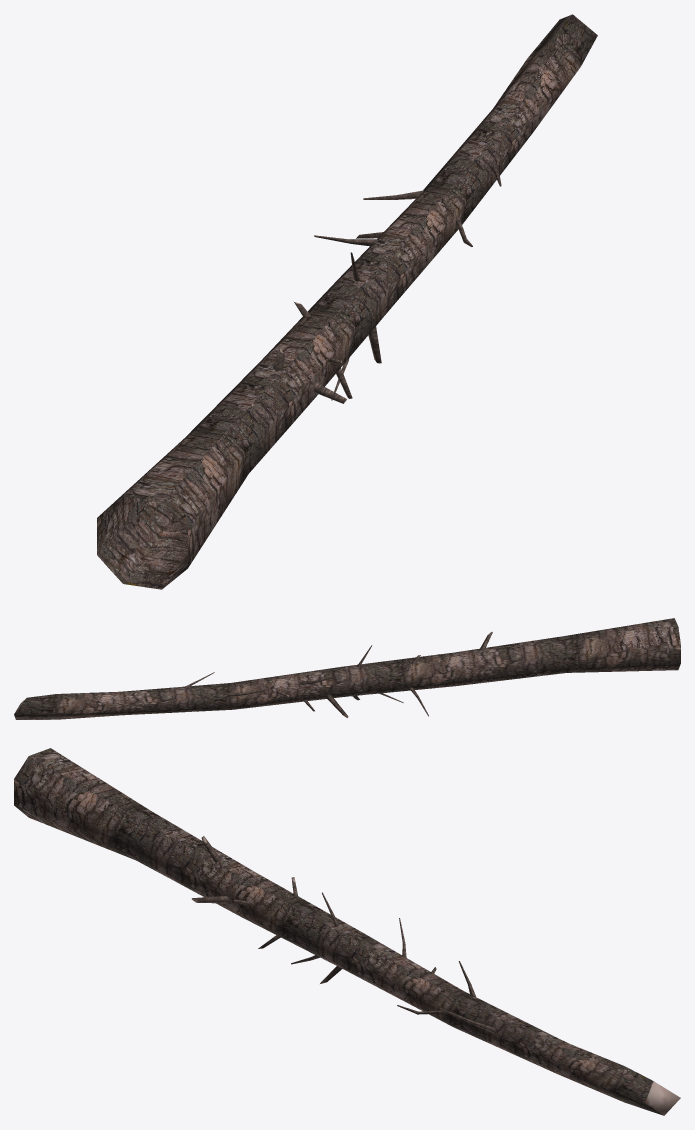
Rendered from dead_log_0.glb.
3 views of the same model, one above another, from view 1: azimuth 30°, elevation 25°; view 2: azimuth 150°, elevation 25°; view 3: azimuth 270°, elevation 25° (orthographic). The views are drawn at different scales.
Parts seen in each view (by area): view 1: Coniferous Dead Log; view 2: Coniferous Dead Log; view 3: Coniferous Dead Log.
Boxes of the visible parts, box(x1,y1,x2,y2) form: Coniferous Dead Log: box(97, 14, 597, 589); Coniferous Dead Log: box(14, 618, 680, 719); Coniferous Dead Log: box(14, 748, 680, 1115).
Size of the model in its own units: 5.88 by 0.7774 by 5.28.
1 material, 1 textured.
